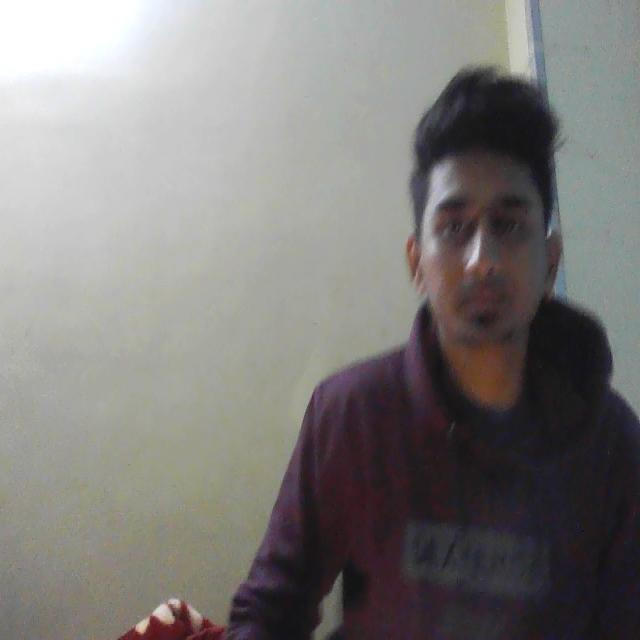real: (409, 82, 566, 378)
